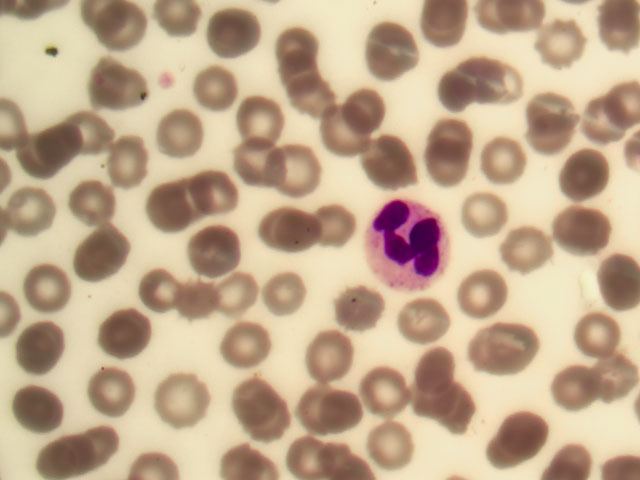Platelets: (155, 67, 182, 92)
RBC: (85, 55, 143, 113), (62, 100, 120, 158), (19, 127, 77, 185), (2, 178, 60, 236), (70, 166, 128, 224), (96, 127, 154, 185), (154, 106, 212, 164), (190, 51, 248, 109), (267, 9, 325, 67), (268, 41, 326, 99), (279, 73, 337, 131), (228, 83, 286, 141), (229, 135, 287, 193), (280, 148, 338, 206), (189, 159, 247, 217), (152, 175, 210, 233), (73, 220, 131, 278), (23, 260, 81, 318), (8, 318, 66, 376), (14, 380, 72, 438), (27, 422, 85, 480), (76, 422, 134, 480), (87, 364, 145, 422), (97, 307, 155, 365), (128, 256, 186, 314), (162, 270, 220, 328), (210, 272, 268, 330), (187, 218, 245, 276), (261, 203, 319, 261), (309, 194, 367, 252), (260, 266, 318, 324), (221, 316, 279, 374), (159, 375, 217, 433), (229, 361, 287, 419), (238, 386, 296, 444), (282, 384, 340, 442), (303, 381, 361, 439), (301, 325, 359, 383), (329, 286, 387, 344), (386, 294, 444, 352), (457, 271, 515, 329), (491, 223, 549, 281), (463, 195, 521, 253), (475, 137, 533, 195), (421, 139, 479, 197), (419, 109, 477, 167), (420, 66, 478, 124), (460, 47, 518, 105), (363, 22, 421, 80), (348, 67, 406, 125), (319, 102, 377, 160), (364, 134, 422, 192), (521, 95, 579, 153), (536, 15, 594, 73), (418, 2, 476, 60), (581, 93, 639, 151), (558, 145, 616, 203), (555, 203, 613, 261), (582, 251, 640, 309), (571, 303, 629, 361), (582, 354, 640, 412), (547, 357, 605, 415), (475, 319, 533, 377), (415, 328, 473, 386), (358, 356, 416, 414), (358, 417, 416, 475), (422, 384, 480, 442), (485, 409, 543, 467), (204, 1, 262, 58), (87, 1, 145, 58), (277, 438, 339, 480)
WBC: (368, 202, 452, 292)
